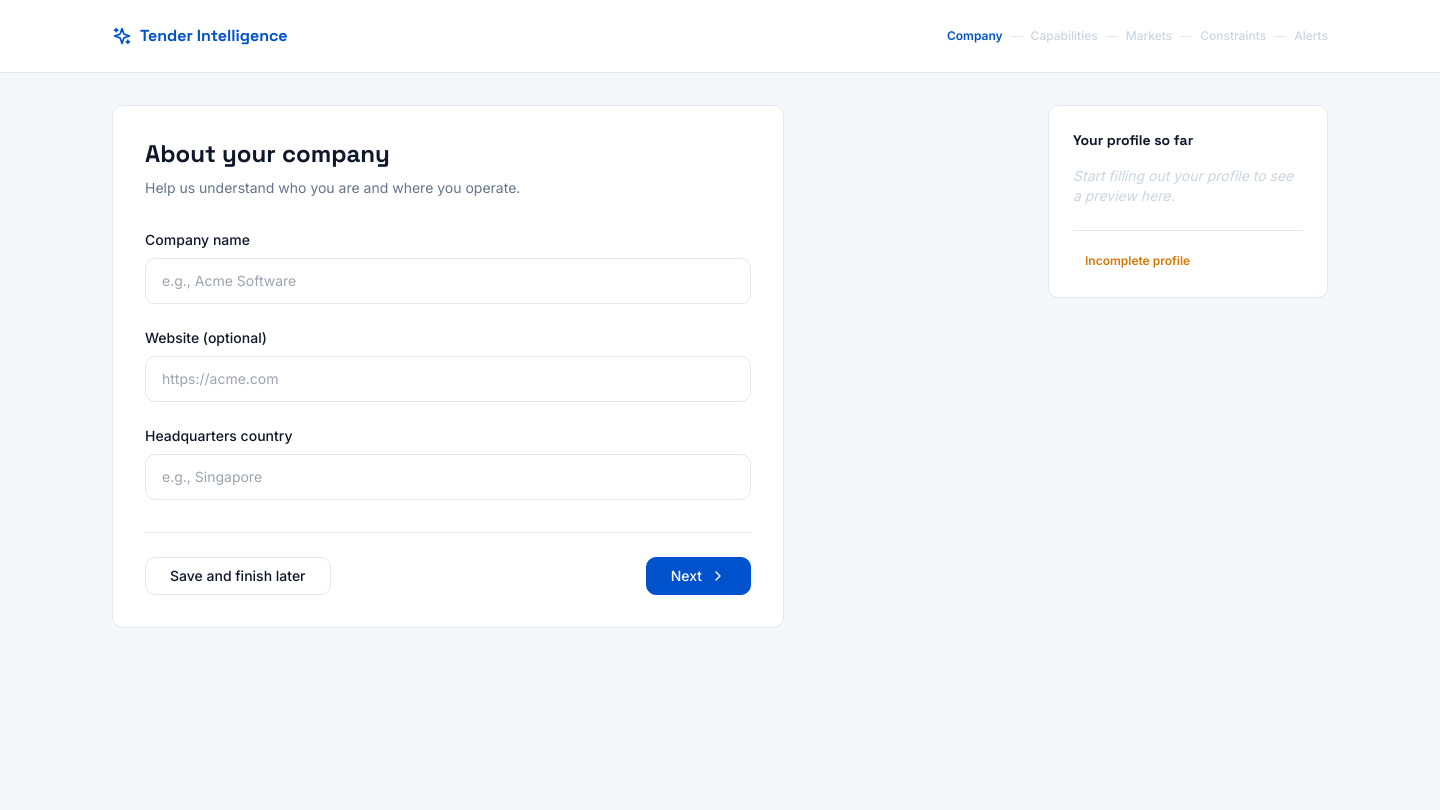
Test: OnboardingWizard › returns to the previous step when clicking Back
Note: Go to step 2
Click the button "Next".
click(698, 576)  # box [646,557,751,595]
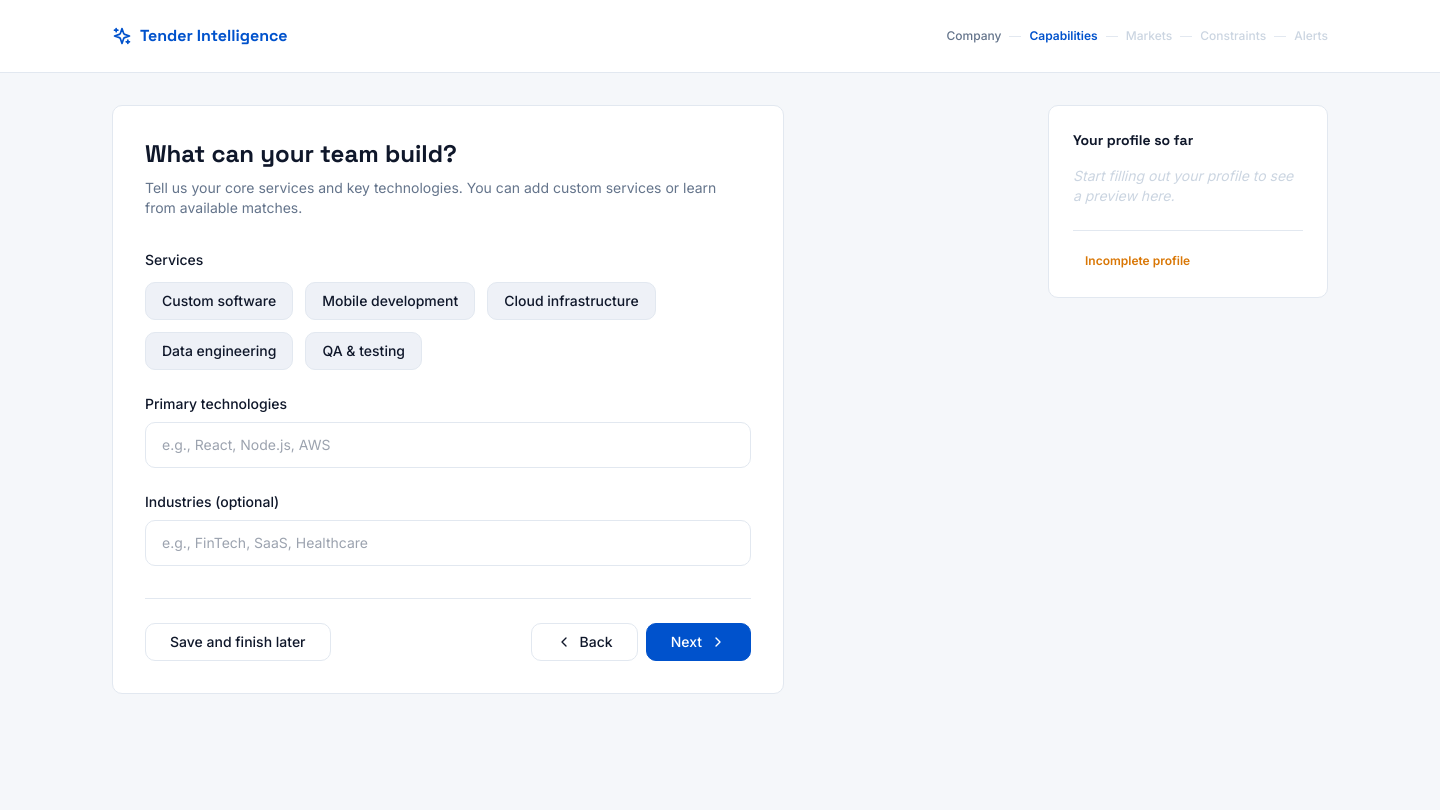
Expected: the heading "What can your team build?" is shown, [145,138,457,169]
Note: Click Back
Click the button "Back".
click(584, 642)  # box [531,623,638,661]
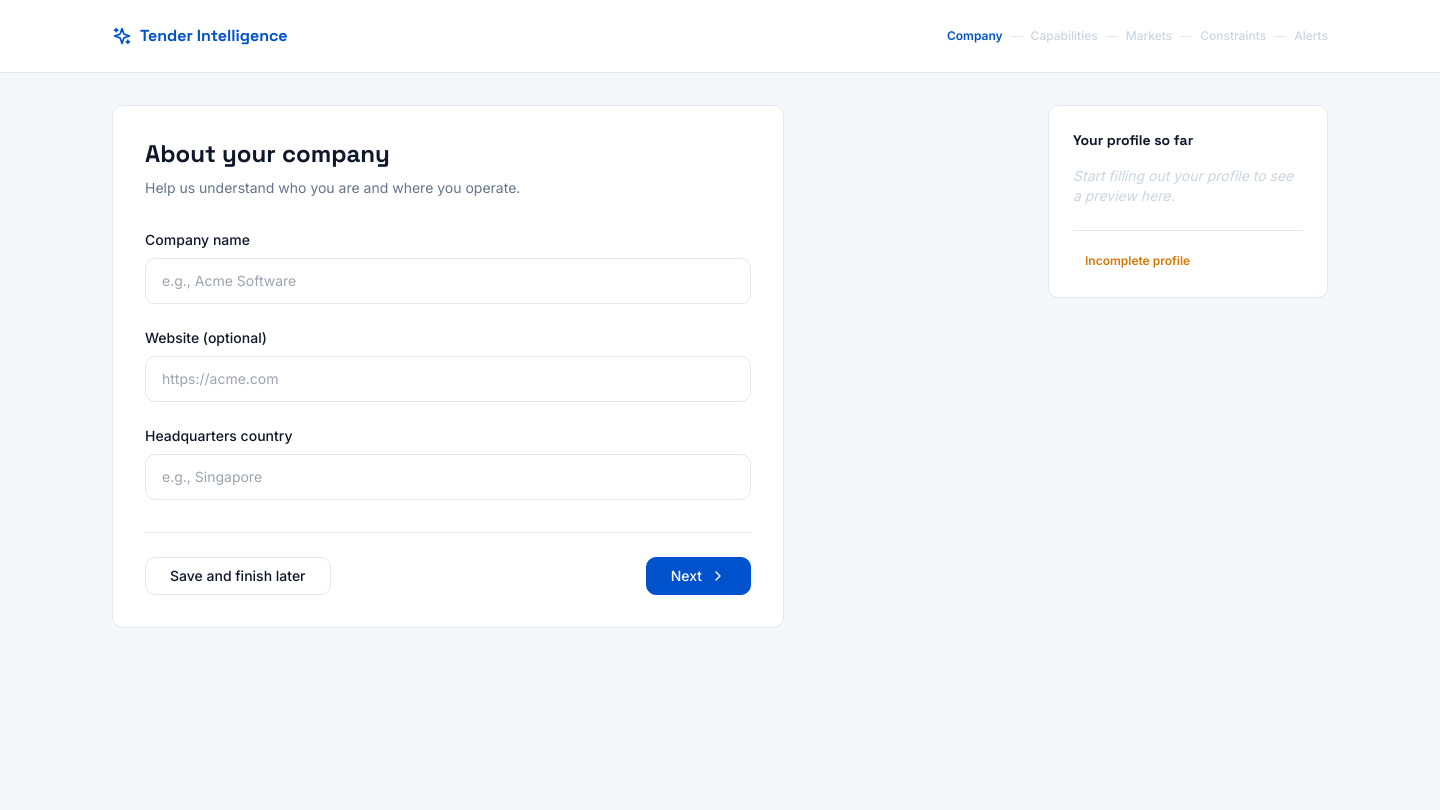
Expected: the heading "About your company" is shown, [145,138,390,169]
